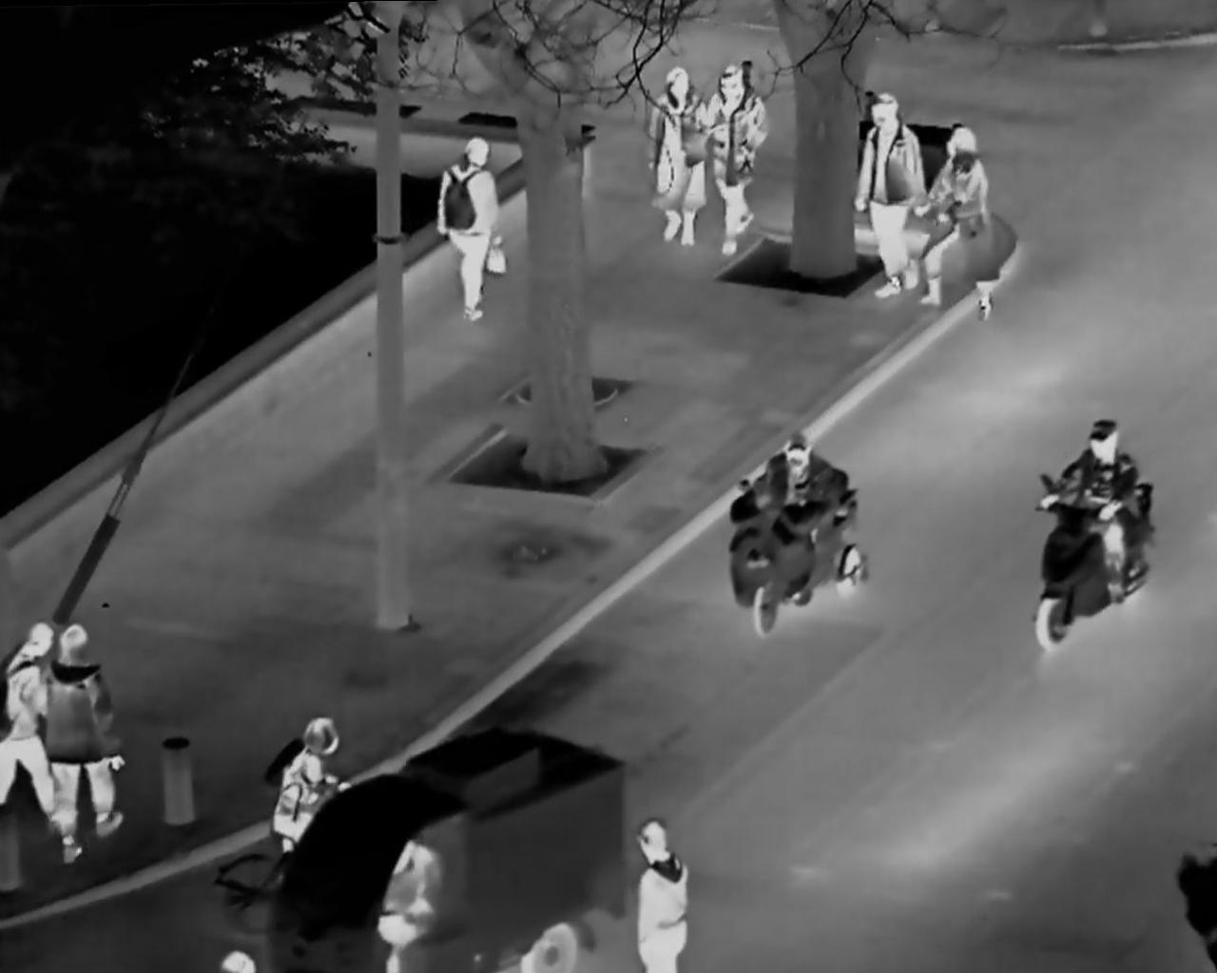person: (1043, 398, 1144, 640), (732, 421, 844, 629), (45, 607, 127, 883), (426, 130, 518, 331), (858, 83, 929, 296), (623, 812, 705, 973), (271, 683, 331, 897), (933, 115, 995, 319), (704, 59, 769, 249), (647, 65, 706, 254), (4, 619, 52, 830), (380, 836, 447, 953)
